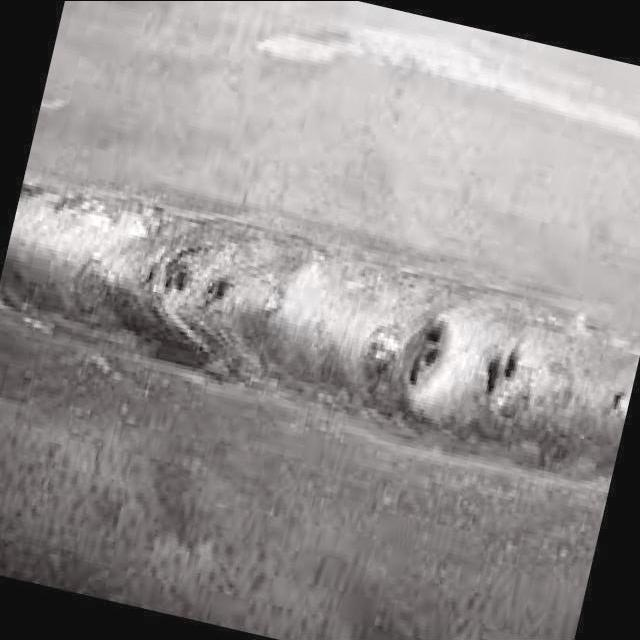defect: (399, 313, 455, 399), (477, 338, 522, 405), (137, 246, 194, 298), (192, 260, 235, 309), (603, 381, 629, 416)
